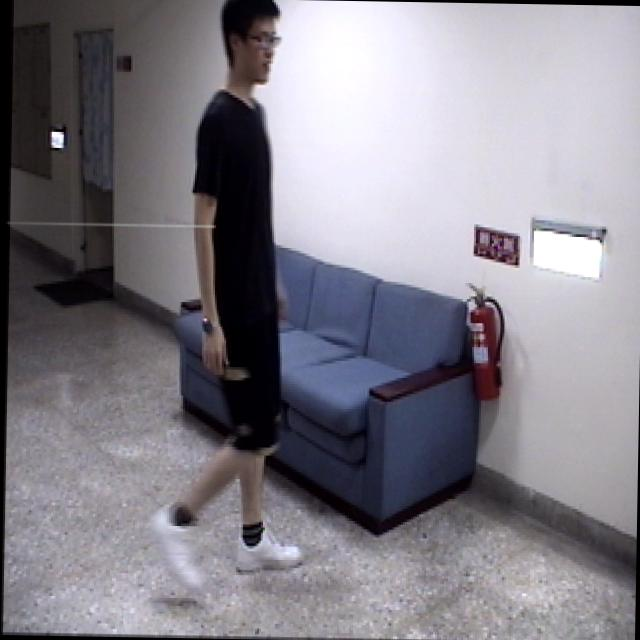stand: (133, 0, 314, 621)
